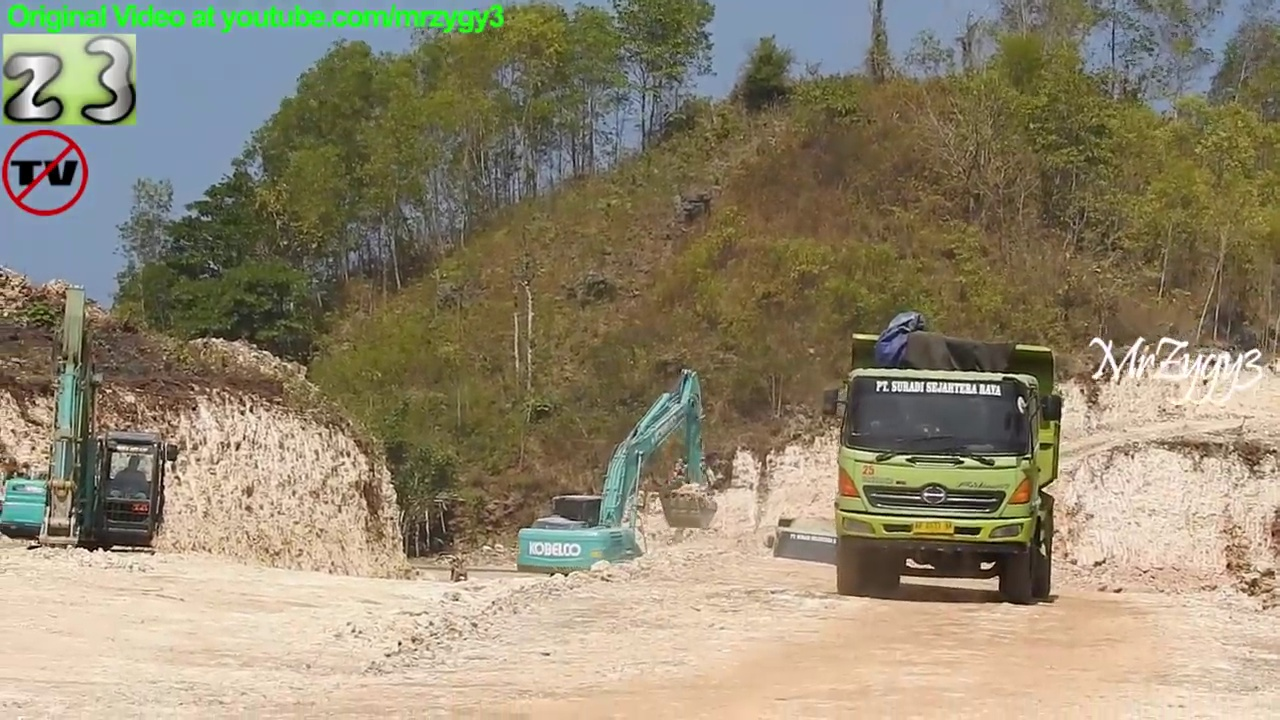excavator: (1, 275, 185, 590), (510, 364, 726, 610)
truck: (817, 328, 1071, 612), (762, 510, 877, 628)
